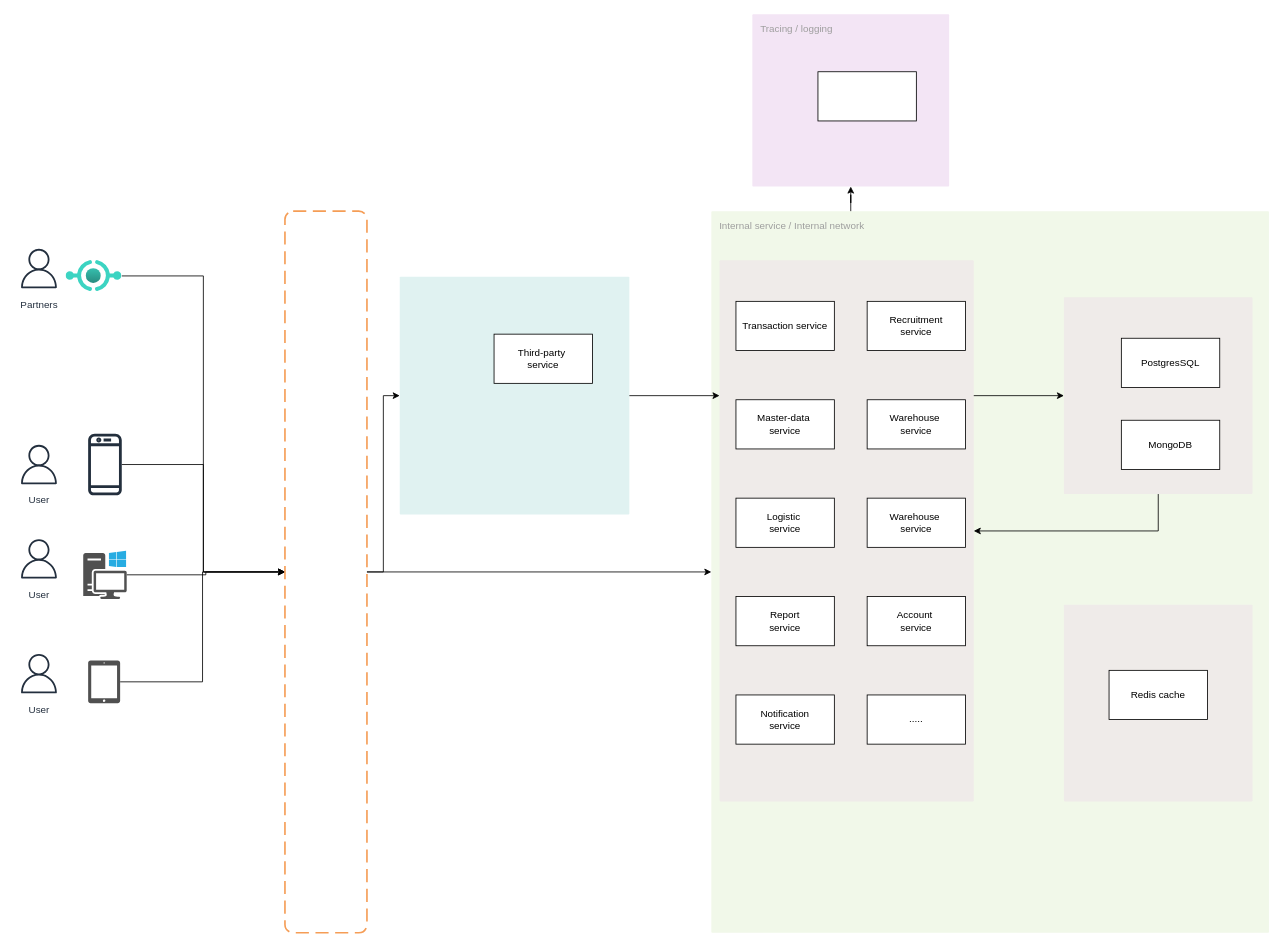
This 1283x947 diagram has some shape labels left out. The box of each missing label's shape, as (x1, y1, x2, y2) in pixels:
API GETWAY: (284, 210, 367, 933)
Caching: (1064, 604, 1252, 801)
Database: (1064, 297, 1252, 494)
ELK Stack / SEQ: (817, 71, 916, 121)
External service/ External API: (399, 276, 629, 514)
Microservices (App service): (719, 260, 973, 801)
